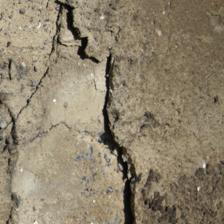Crack: (33, 0, 93, 131), (69, 53, 104, 189)
